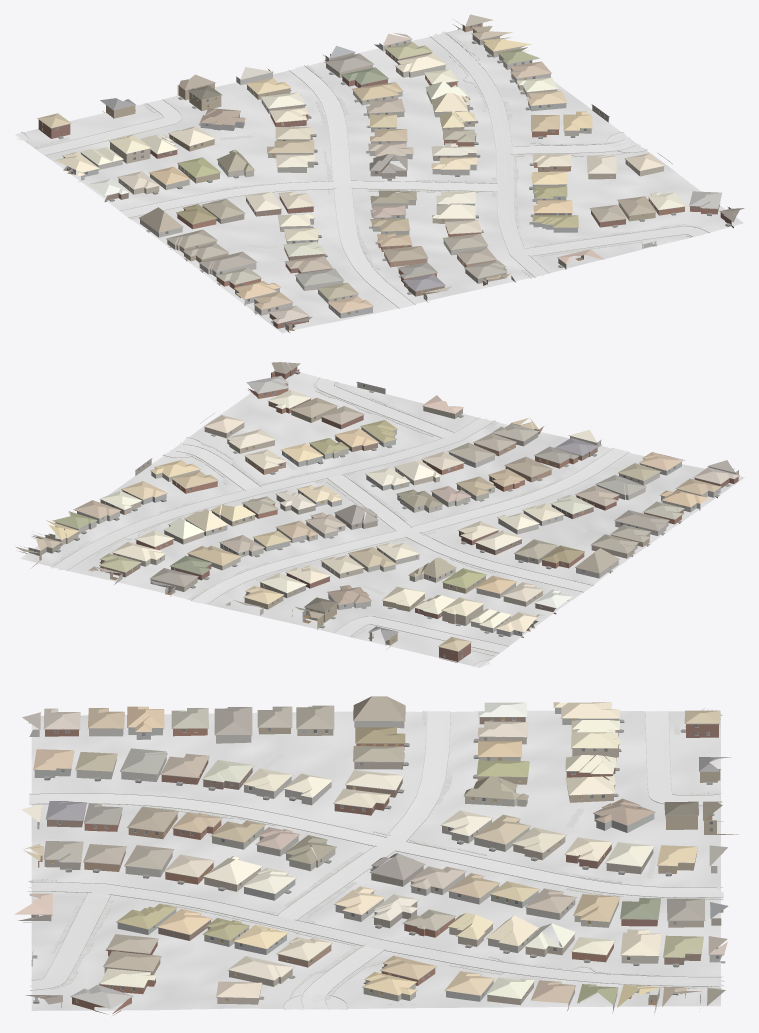
3 views of the same model, one above another, from view 1: azimuth 30°, elevation 25°; view 2: azimuth 150°, elevation 25°; view 3: azimuth 270°, elevation 25° (orthographic). The views are drawn at different scales.
Visible parts, largest first — view 1: ground, roof, concrete, wall, detail, asphalt, wall_stucco, walk, curb, wall_stone, glass; view 2: ground, roof, concrete, wall, detail, wall_stucco, asphalt, curb, walk, wall_stone, glass; view 3: ground, roof, concrete, wall, wall_stucco, detail, asphalt, curb, walk, wall_stone, glass, mark_w.
Part boxes in pixels (bbox=[...]): ground: bbox=[16, 28, 743, 333]; roof: bbox=[37, 14, 744, 323]; concrete: bbox=[15, 66, 706, 308]; wall: bbox=[38, 23, 733, 328]; detail: bbox=[37, 21, 732, 325]; asphalt: bbox=[432, 31, 547, 277]; wall_stucco: bbox=[63, 42, 663, 318]; walk: bbox=[32, 32, 701, 277]; curb: bbox=[21, 32, 709, 308]; wall_stone: bbox=[81, 40, 550, 332]; glass: bbox=[42, 24, 697, 324]; ground: bbox=[20, 372, 744, 667]; roof: bbox=[15, 362, 739, 651]; concrete: bbox=[163, 379, 628, 666]; wall: bbox=[19, 366, 738, 662]; detail: bbox=[24, 363, 739, 657]; wall_stucco: bbox=[32, 382, 700, 637]; asphalt: bbox=[51, 418, 493, 570]; curb: bbox=[52, 377, 629, 666]; walk: bbox=[49, 382, 594, 655]; wall_stone: bbox=[55, 436, 738, 632]; glass: bbox=[34, 384, 715, 656]; ground: bbox=[31, 710, 720, 1010]; roof: bbox=[14, 696, 730, 1008]; concrete: bbox=[29, 707, 723, 1009]; wall: bbox=[18, 717, 738, 1015]; wall_stucco: bbox=[31, 708, 659, 1013]; detail: bbox=[31, 707, 723, 1007]; asphalt: bbox=[29, 882, 725, 986]; curb: bbox=[28, 711, 723, 1009]; walk: bbox=[29, 711, 722, 999]; wall_stone: bbox=[29, 721, 725, 1013]; glass: bbox=[31, 717, 719, 997]; mark_w: bbox=[29, 882, 716, 985].
Bounding box in the file's own units: 263 × 14.4 × 265.
